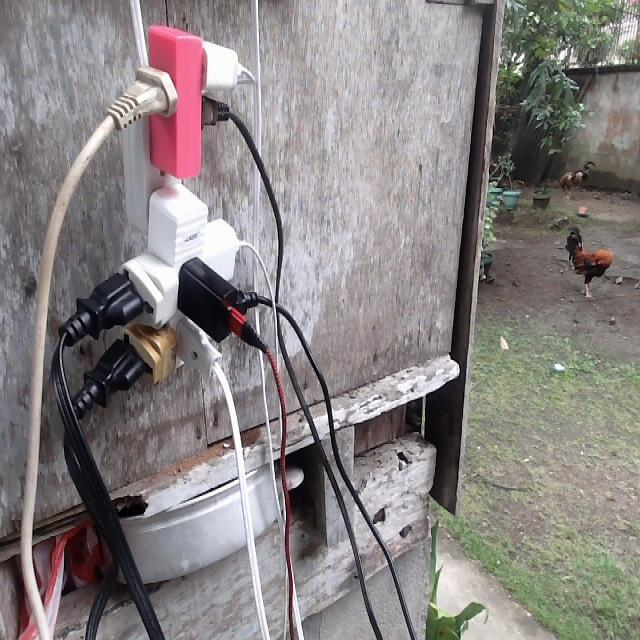-: (87, 21, 254, 384)
